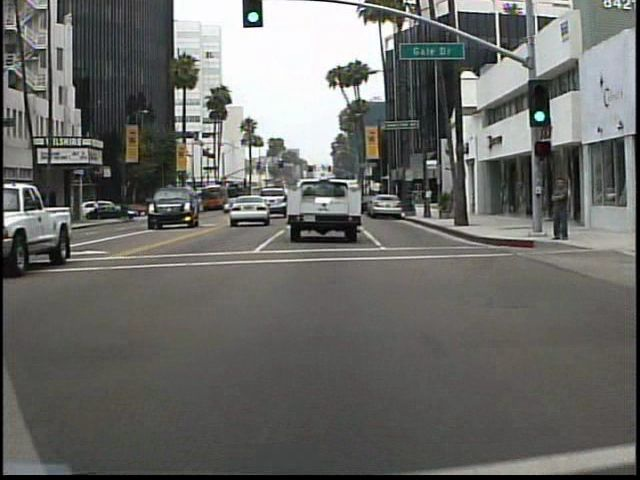person: (546, 170, 571, 247)
